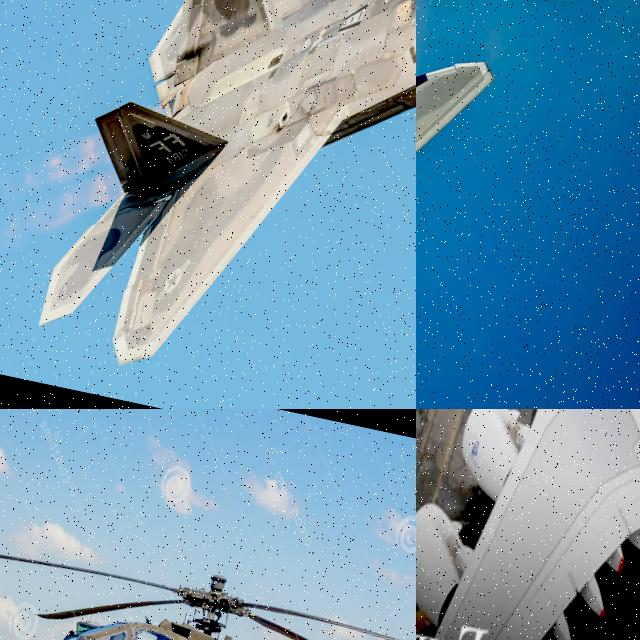A380: (416, 409, 640, 640)
Apache: (0, 503, 416, 640)
F22: (29, 0, 416, 409), (416, 0, 506, 409)
